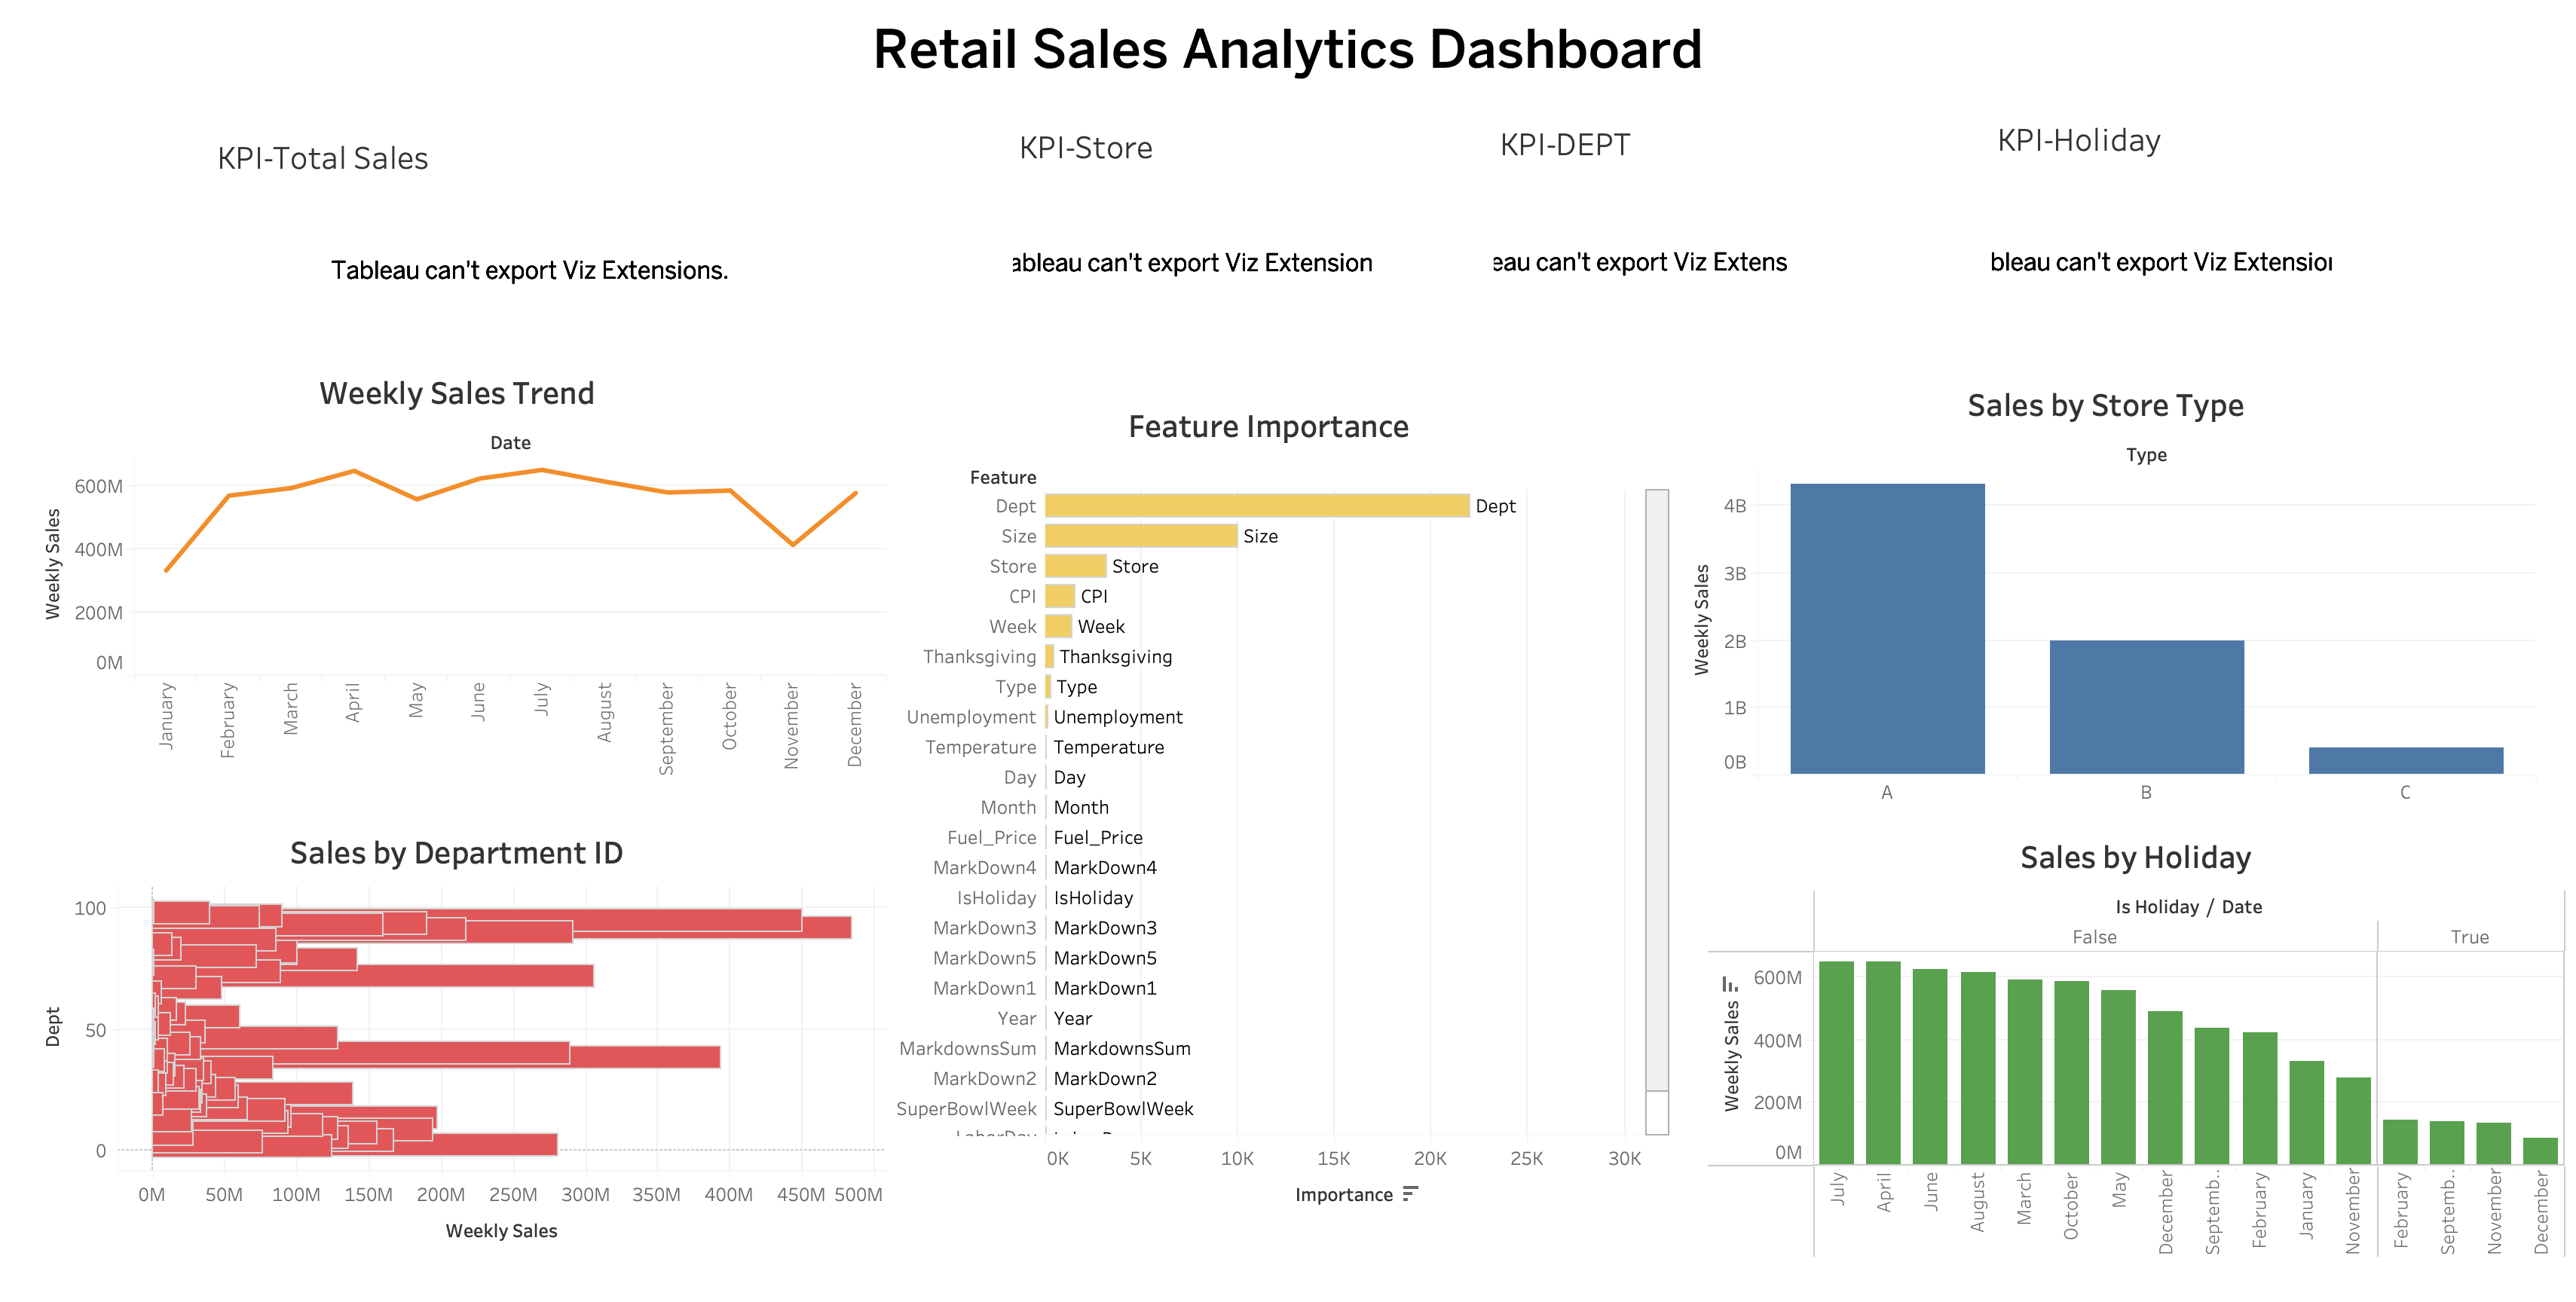

This screenshot's page, from the dashboard's own definition file:
{"tool":"tableau","page":{"name":"Dashboard 1","canvas":[1000,1000],"units":"permille","ordinal":0},"visuals":[{"type":"title","box":[4.7,9.3,990.6,57.9]},{"type":"worksheet","title":"KPI-Holiday","mark":"VizExtension","box":[773,82.9,132.2,185.7]},{"type":"worksheet","title":"KPI-DEPT","mark":"VizExtension","box":[580,87.1,114.8,178.6]},{"type":"worksheet","title":"KPI-Store","mark":"VizExtension","box":[393,88.6,140,174.3]},{"type":"worksheet","title":"KPI-Total Sales","mark":"VizExtension","box":[81.7,97.1,247.8,170]},{"type":"worksheet","title":"Weekly Sales Trend","mark":"Automatic","rows":["Weekly_Sales"],"cols":["Date"],"box":[11.1,277.8,332.9,333.3]},{"type":"worksheet","title":"Sales by Store Type","mark":"Automatic","rows":["Weekly_Sales"],"cols":["Type"],"box":[651.3,287,332.9,332.2]},{"type":"worksheet","title":"Feature Importance","mark":"Automatic","rows":["Feature"],"cols":["Importance"],"box":[347,303.2,301.4,631.9]},{"type":"worksheet","title":"Sales by Department","mark":"Bar","rows":["Dept"],"cols":["Weekly_Sales"],"box":[11.1,630.8,332.9,332.2]},{"type":"worksheet","title":"Sales by Holiday","mark":"Automatic","rows":["Weekly_Sales"],"cols":["IsHoliday","Date"],"box":[663,634.3,332.9,333.3]}]}

Visuals, with their boxes on the dashboard's canvas, which has no fixed pixel size, in thousandths of its width and height (x1, y1, x2, y2). These are canvas units, not pixel positions in the 2576x1302 screenshot, which may show the page scaled, cropped or inside an application window:
title: BBox(5, 9, 995, 67)
"KPI-Holiday" worksheet (VizExtension marks): BBox(773, 83, 905, 269)
"KPI-DEPT" worksheet (VizExtension marks): BBox(580, 87, 695, 266)
"KPI-Store" worksheet (VizExtension marks): BBox(393, 89, 533, 263)
"KPI-Total Sales" worksheet (VizExtension marks): BBox(82, 97, 330, 267)
"Weekly Sales Trend" worksheet: BBox(11, 278, 344, 611)
"Sales by Store Type" worksheet: BBox(651, 287, 984, 619)
"Feature Importance" worksheet: BBox(347, 303, 648, 935)
"Sales by Department" worksheet (Bar marks): BBox(11, 631, 344, 963)
"Sales by Holiday" worksheet: BBox(663, 634, 996, 968)
